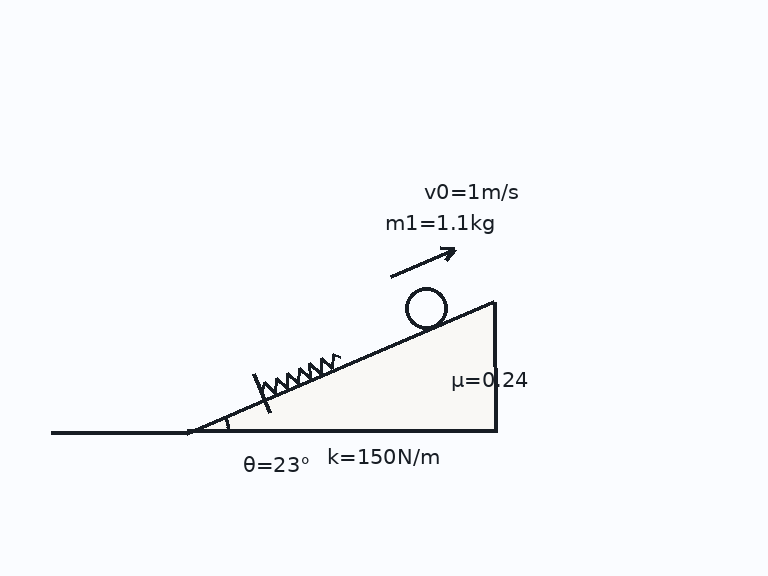ball: (403, 285, 449, 331)
ramp: (186, 300, 497, 434)
spring: (259, 351, 343, 395)
